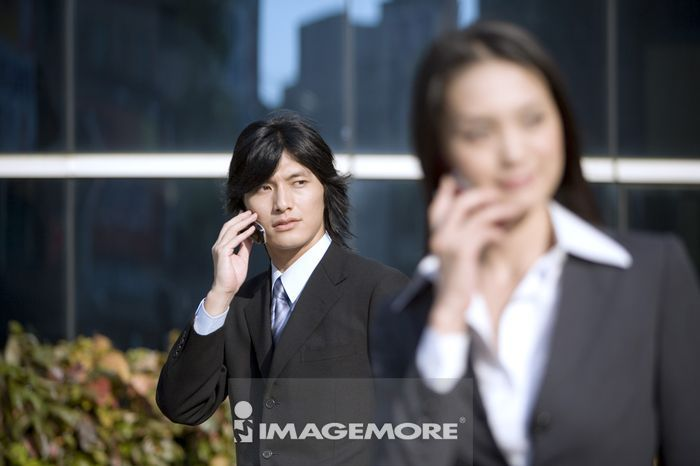talk: (212, 166, 312, 303)
